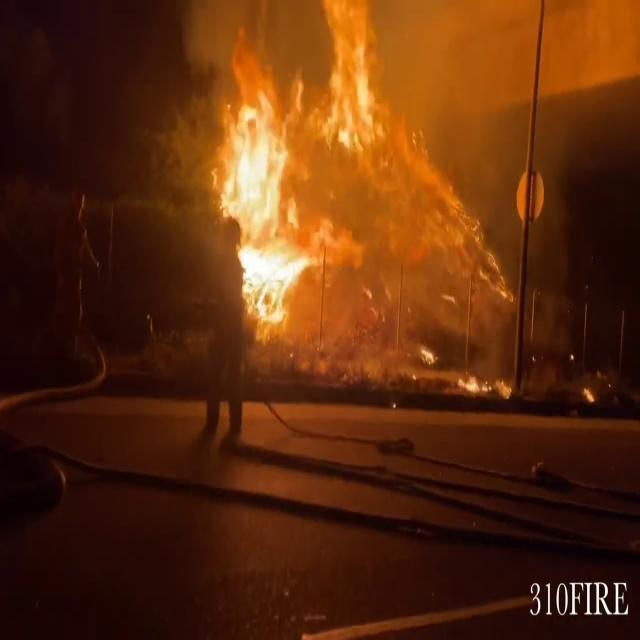Fire: (184, 39, 316, 336), (306, 0, 407, 174)
